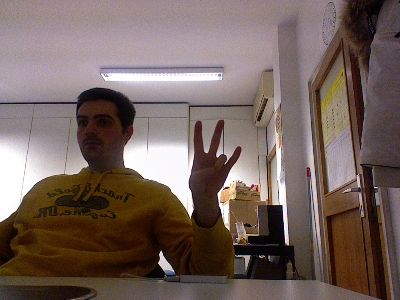观音: (186, 118, 242, 197)
